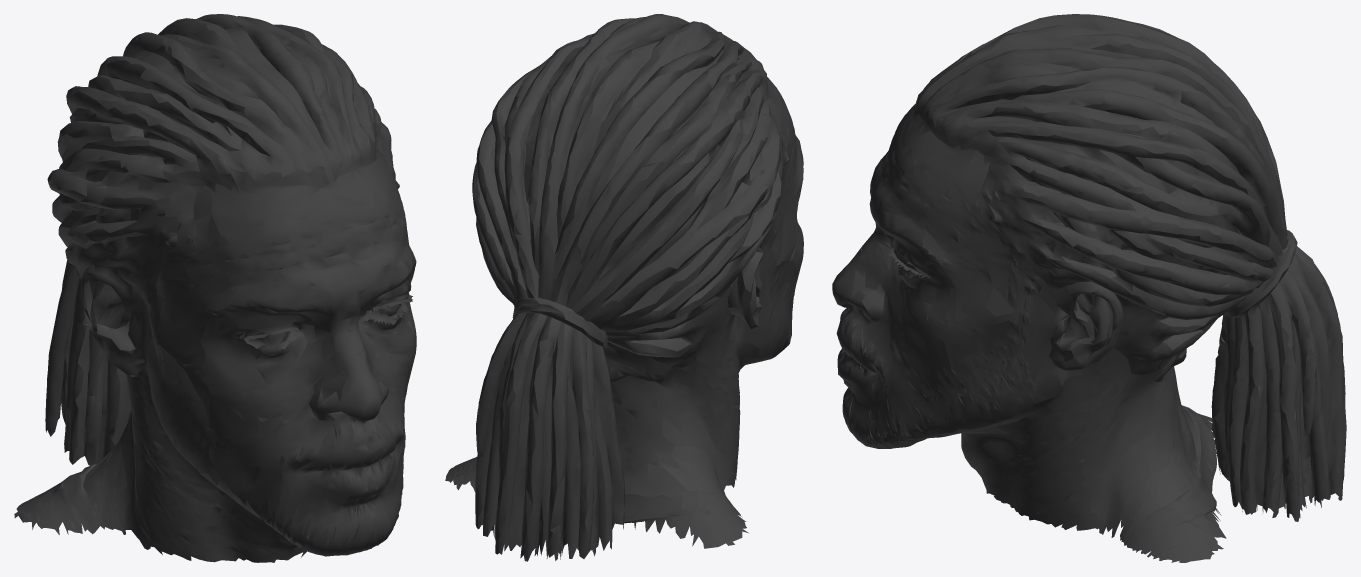
File: sol_scan_head.glb
3 renders of one model, left to right at view 1: azimuth 30°, elevation 25°; view 2: azimuth 150°, elevation 25°; view 3: azimuth 270°, elevation 25°, orthographic. The views are drawn at different scales.
Parts seen in each view (by area): view 1: geometry_0; view 2: geometry_0; view 3: geometry_0.
Boxes of the visible parts, x1=… form: geometry_0: x1=14, y1=14, x2=416, y2=562; geometry_0: x1=445, y1=14, x2=803, y2=561; geometry_0: x1=832, y1=14, x2=1346, y2=562.
Size of the model in its own units: 0.2216 by 0.3141 by 0.3234.
Materials: 1 (1 with a texture image).
